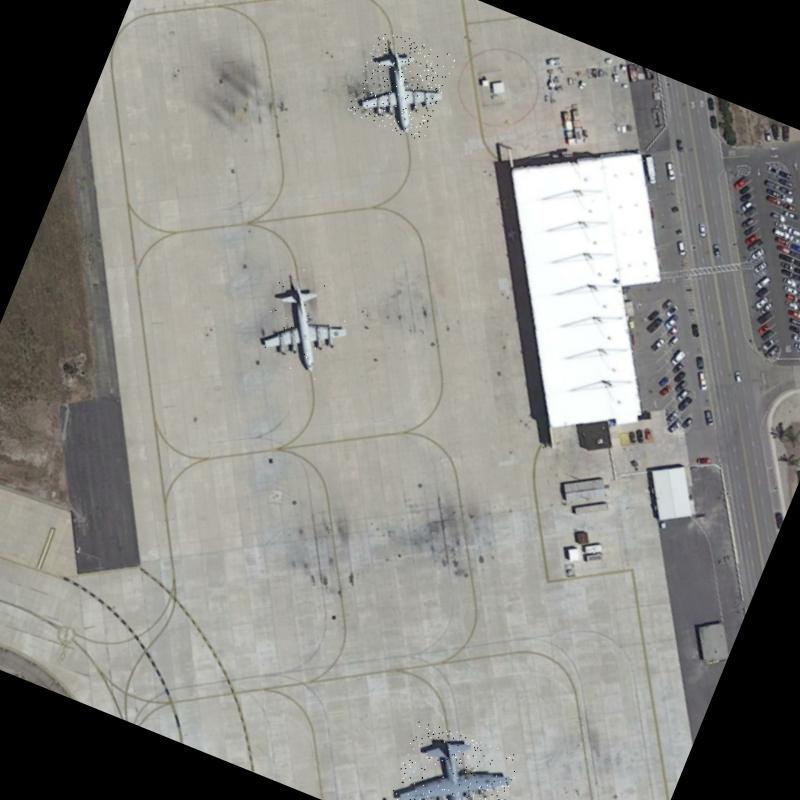A2: (384, 716, 522, 800)
A9: (242, 259, 364, 385), (345, 26, 456, 144)
